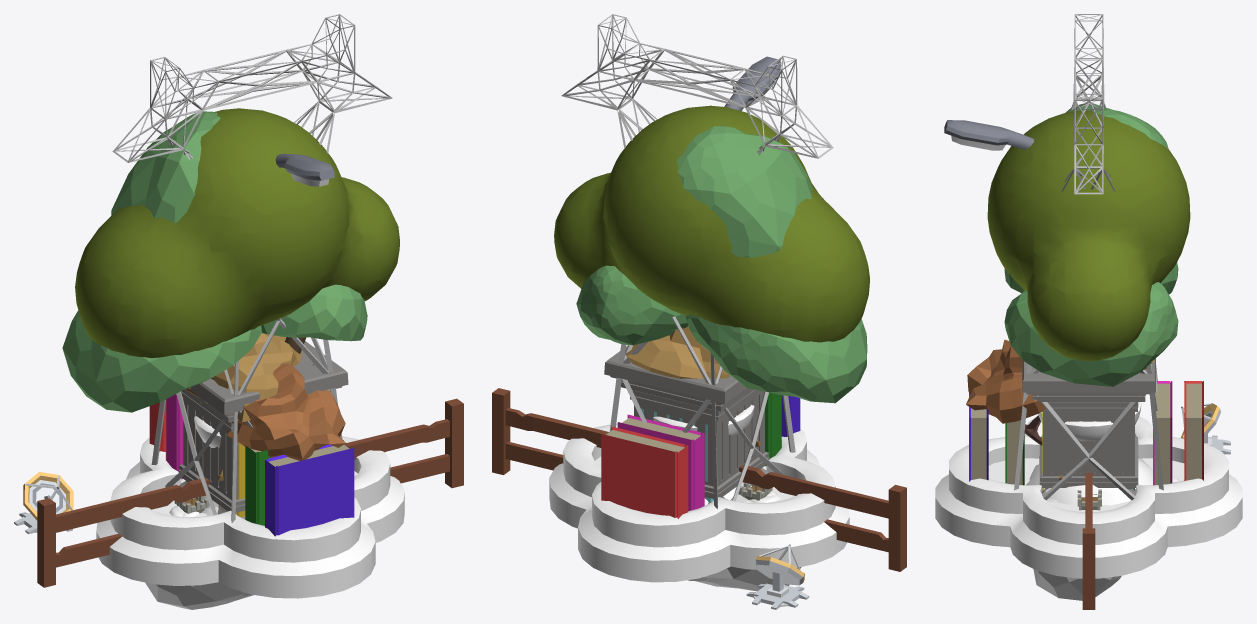
File: props.glb
3 views of the same model, side by side, from view 1: azimuth 30°, elevation 25°; view 2: azimuth 150°, elevation 25°; view 3: azimuth 270°, elevation 25° (orthographic). The views are drawn at different scales.
Parts seen in each view (by area): view 1: Tree_3, fountain, Tree2, Tower_3, Fence_Cube.057, CommonTree_Autumn_2, Book1, Pedestal2, Cloud1, satelliteDish_detailed, Book2, StreetLight (+1 smaller); view 2: Tree_3, Tree2, fountain, Tower_3, Fence_Cube.057, Pedestal2, Book7, CommonTree_Autumn_2, Book6, satelliteDish_detailed, Cloud1, StreetLight (+2 smaller); view 3: Tree_3, fountain, Pedestal2, Tree2, Tower_3, CommonTree_Autumn_2, Book7, StreetLight, Book6, Fence_Cube.057, Bush_Large, Book1 (+4 smaller).
Part boxes in pixels (x1,y1,x2,y2): Tree_3: [75, 108, 399, 357]; fountain: [96, 416, 404, 598]; Tree2: [62, 111, 367, 412]; Tower_3: [112, 14, 392, 522]; Fence_Cube.057: [37, 398, 463, 587]; CommonTree_Autumn_2: [200, 333, 345, 460]; Book1: [265, 440, 354, 536]; Pedestal2: [178, 341, 348, 519]; Cloud1: [145, 495, 253, 609]; satelliteDish_detailed: [14, 472, 73, 534]; Book2: [245, 445, 270, 525]; StreetLight: [275, 153, 334, 186]; Tree_3: [554, 105, 869, 342]; Tree2: [576, 126, 867, 403]; fountain: [549, 404, 849, 582]; Tower_3: [561, 14, 833, 508]; Fence_Cube.057: [492, 388, 906, 571]; Pedestal2: [604, 345, 769, 503]; Book7: [601, 426, 688, 518]; CommonTree_Autumn_2: [625, 326, 748, 392]; Book6: [617, 414, 704, 510]; satelliteDish_detailed: [746, 544, 809, 609]; Cloud1: [688, 482, 801, 591]; StreetLight: [724, 56, 781, 110]; Tree_3: [987, 110, 1190, 360]; fountain: [935, 402, 1242, 578]; Pedestal2: [1022, 358, 1155, 495]; Tree2: [1004, 103, 1178, 386]; Tower_3: [1014, 14, 1163, 500]; CommonTree_Autumn_2: [966, 339, 1153, 445]; Book7: [1184, 381, 1203, 480]; StreetLight: [944, 120, 1034, 150]; Book6: [1153, 381, 1172, 485]; Fence_Cube.057: [1082, 472, 1095, 609]; Bush_Large: [1026, 458, 1152, 505]; Book1: [969, 393, 988, 481].
Size of the model in its own units: 5.89 by 7.4 by 4.
